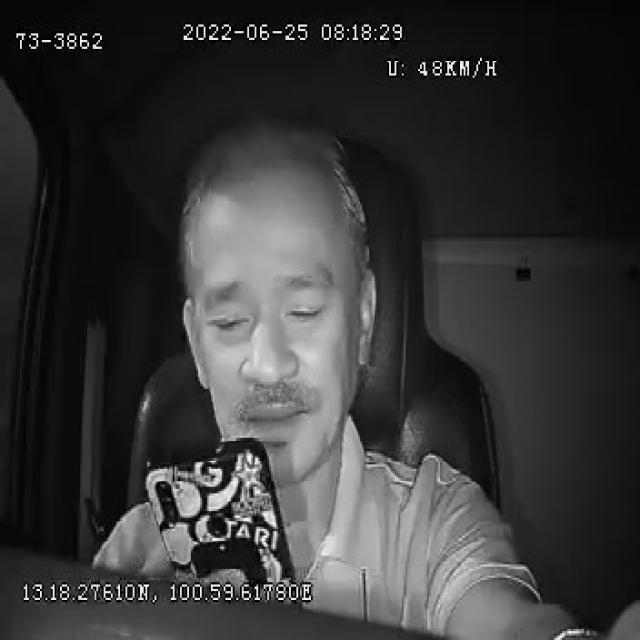phone: (142, 436, 294, 581)
